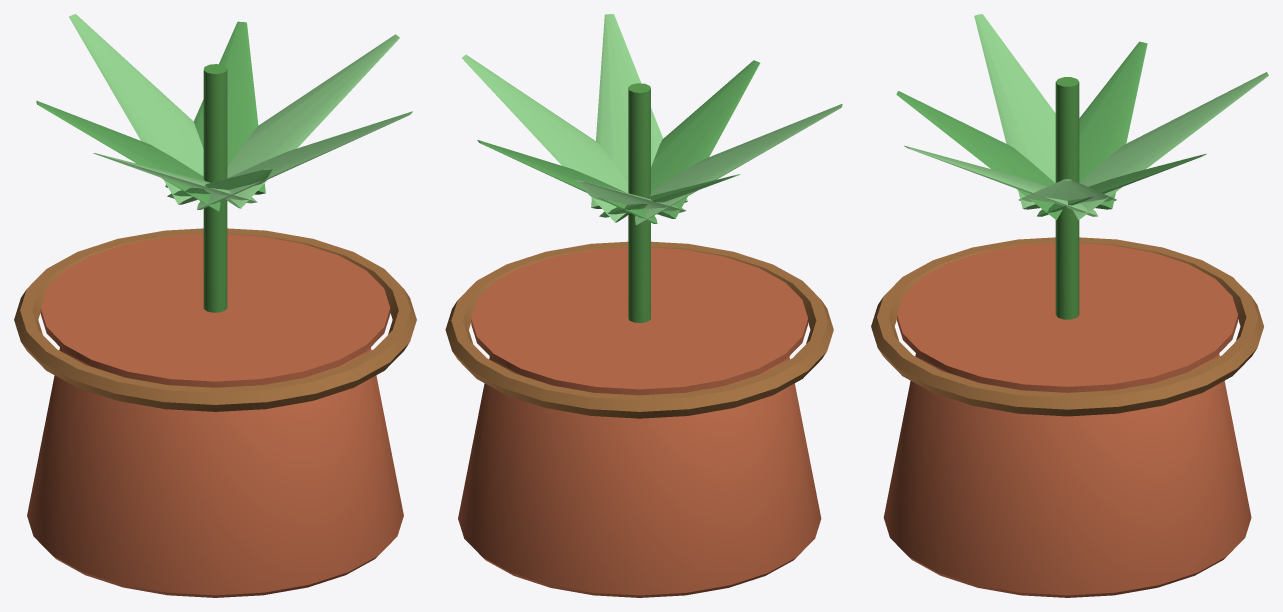
File: prop_plant_v2.glb
3 views of the same model, side by side, from view 1: azimuth 30°, elevation 25°; view 2: azimuth 150°, elevation 25°; view 3: azimuth 270°, elevation 25° (orthographic). The views are drawn at different scales.
Parts seen in each view (by area): view 1: PlantV2; view 2: PlantV2; view 3: PlantV2.
Boxes of the visible parts, x1=… form: PlantV2: x1=14, y1=14, x2=416, y2=597; PlantV2: x1=445, y1=14, x2=842, y2=597; PlantV2: x1=871, y1=14, x2=1268, y2=597.
Bounding box in the file's own units: 1.7 × 2.05 × 1.68.
